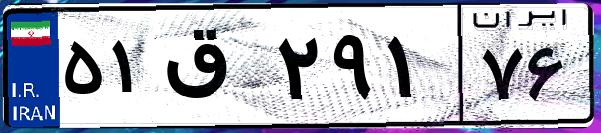1: (385, 28, 445, 110), (110, 28, 158, 98)
2: (270, 28, 330, 110)
5: (57, 26, 110, 100)
6: (525, 38, 570, 115)
7: (475, 38, 525, 113)
9: (330, 28, 385, 110)
ق: (158, 20, 270, 120)
